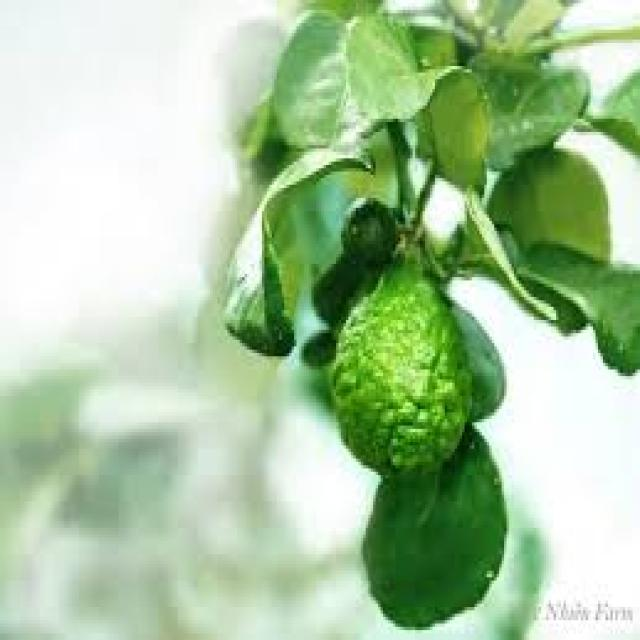Chuc: (326, 257, 472, 478), (338, 195, 398, 267)
